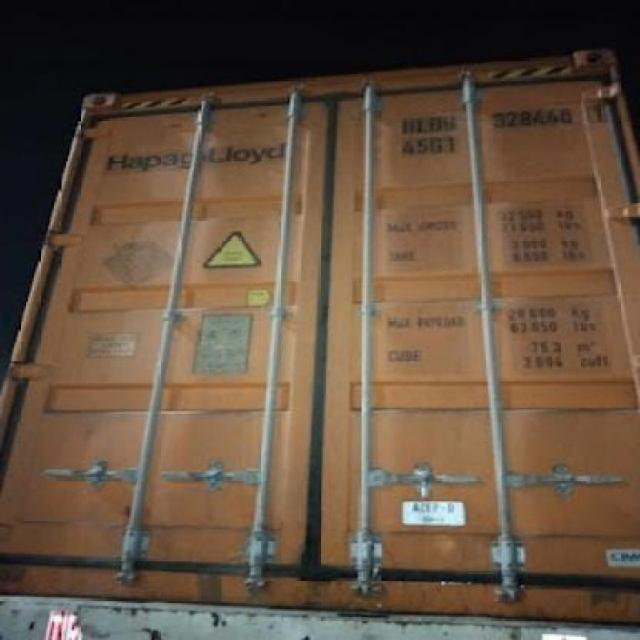ISO: (398, 132, 473, 158)
container_number: (390, 95, 614, 136)
